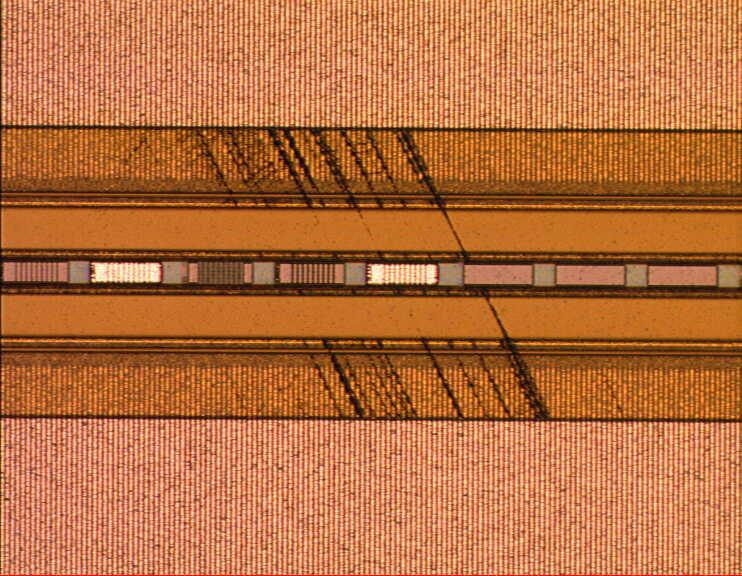SCRATCH: (175, 128, 562, 422)
